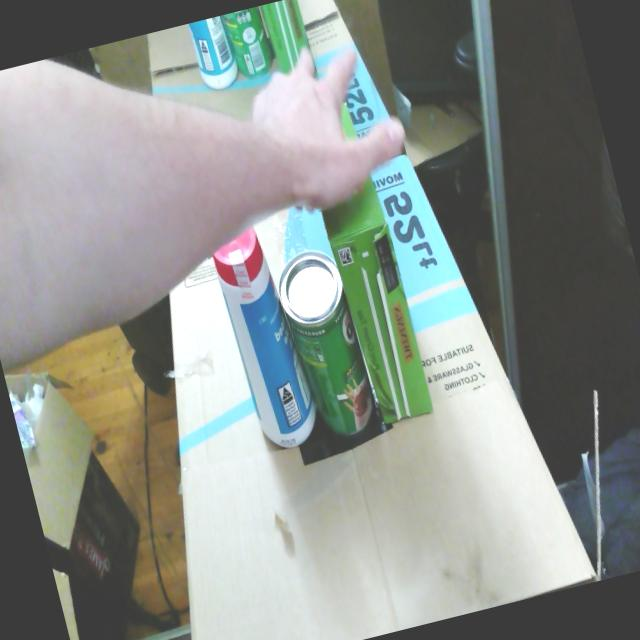nestle_milo_tin: (278, 250, 374, 435)
twinings_greentea_box: (321, 174, 433, 424), (340, 102, 358, 140)
woolworths_salt_bottle: (213, 226, 315, 447)
